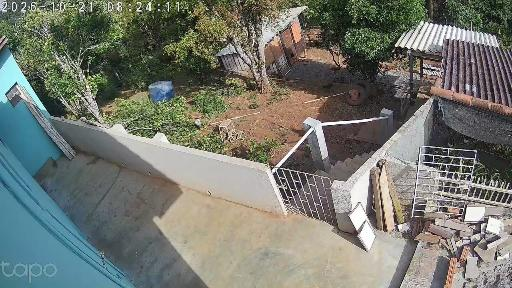galinha: (322, 83, 334, 93), (193, 118, 203, 129)
